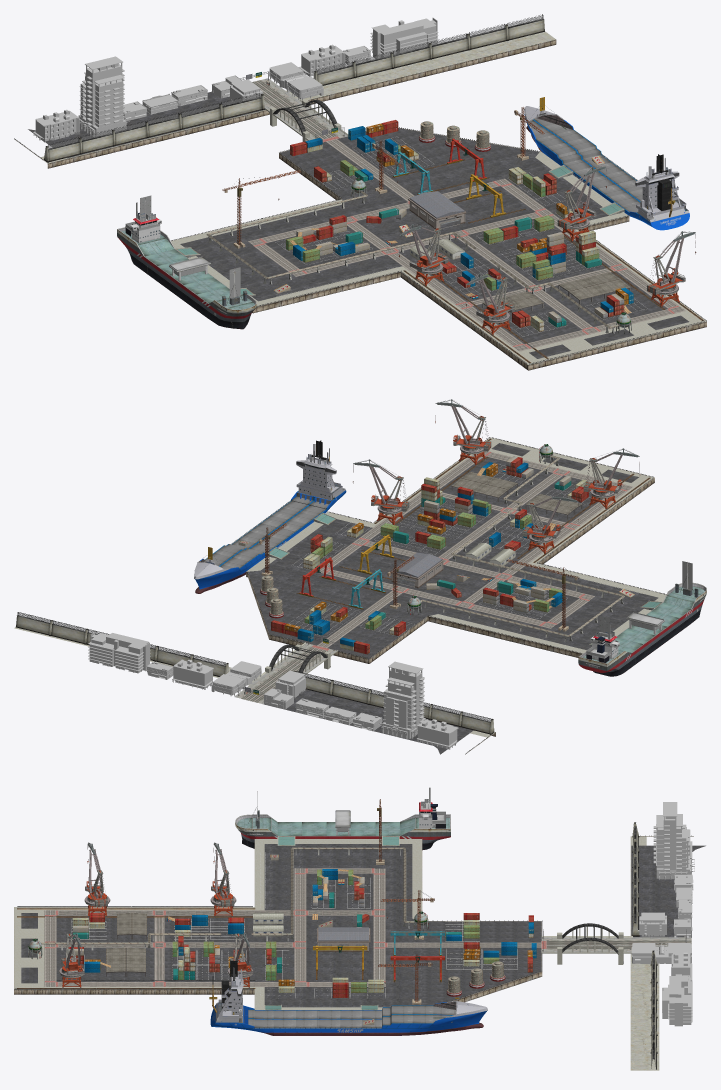
Rendered from PortParent.fbx.
3 views of the same model, one above another, from view 1: azimuth 30°, elevation 25°; view 2: azimuth 150°, elevation 25°; view 3: azimuth 270°, elevation 25° (orthographic). The views are drawn at different scales.
Parts seen in each view (by area): view 1: Cube_detach, Cube_detach_1, Cube, samskip_inno, hydra, PortMain, pb_MergedObject_4176998, building_14_LOD1_ODCObj, BridgeAzx, residential_1_LOD1_ODCObj__1_, Plane__16_, WallAzx__26_ (+17 smaller); view 2: Cube, Cube_detach_1, Cube_detach, samskip_inno, PortMain, hydra, building_14_LOD1_ODCObj, BridgeAzx, residential_1_LOD1_ODCObj__1_, Plane__16_, PortParent, WallAzx__23_ (+12 smaller); view 3: Cube_detach, Cube, Cube_detach_1, samskip_inno, PortMain, hydra, pb_MergedObject_4176998, BridgeAzx, Plane__16_, building_14_LOD1_ODCObj, residential_1_LOD1_ODCObj__1_, PortParent (+13 smaller).
Boxes of the visible parts, box(x1,y1,x2,y2) form: Cube_detach: box(400, 229, 706, 370); Cube_detach_1: box(171, 199, 407, 313); Cube: box(342, 151, 629, 263); samskip_inno: box(524, 97, 689, 230); hydra: box(117, 195, 256, 329); PortMain: box(279, 128, 536, 200); pb_MergedObject_4176998: box(40, 31, 556, 168); building_14_LOD1_ODCObj: box(78, 56, 129, 137); BridgeAzx: box(252, 78, 348, 142); residential_1_LOD1_ODCObj__1_: box(370, 17, 438, 58); Plane__16_: box(28, 91, 265, 158); WallAzx__26_: box(178, 93, 261, 129); Cube: box(246, 512, 520, 615); Cube_detach_1: box(427, 562, 665, 657); Cube_detach: box(373, 437, 654, 564); samskip_inno: box(194, 440, 346, 593); PortMain: box(248, 572, 427, 663); hydra: box(578, 561, 706, 676); building_14_LOD1_ODCObj: box(379, 661, 425, 739); BridgeAzx: box(234, 642, 338, 704); residential_1_LOD1_ODCObj__1_: box(88, 632, 150, 673); Plane__16_: box(264, 689, 473, 754); PortParent: box(391, 552, 444, 588); WallAzx__23_: box(16, 612, 87, 644); Cube_detach: box(14, 907, 254, 994); Cube: box(254, 915, 422, 1009); Cube_detach_1: box(254, 839, 421, 918); samskip_inno: box(209, 961, 487, 1035); PortMain: box(422, 921, 542, 1005); hydra: box(235, 787, 450, 850); pb_MergedObject_4176998: box(630, 836, 659, 1070); BridgeAzx: box(541, 923, 691, 964); Plane__16_: box(631, 845, 705, 937); building_14_LOD1_ODCObj: box(653, 802, 694, 879); residential_1_LOD1_ODCObj__1_: box(662, 972, 692, 1026); PortParent: box(317, 927, 370, 952).
Size of what is drawn, in the model's own units: 61338 by 8799 by 72785.
